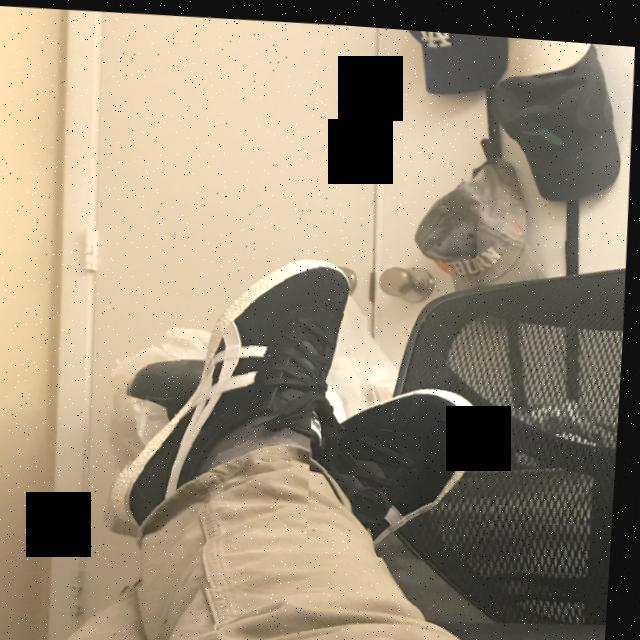shoe: (118, 199, 381, 597), (309, 360, 507, 558)
